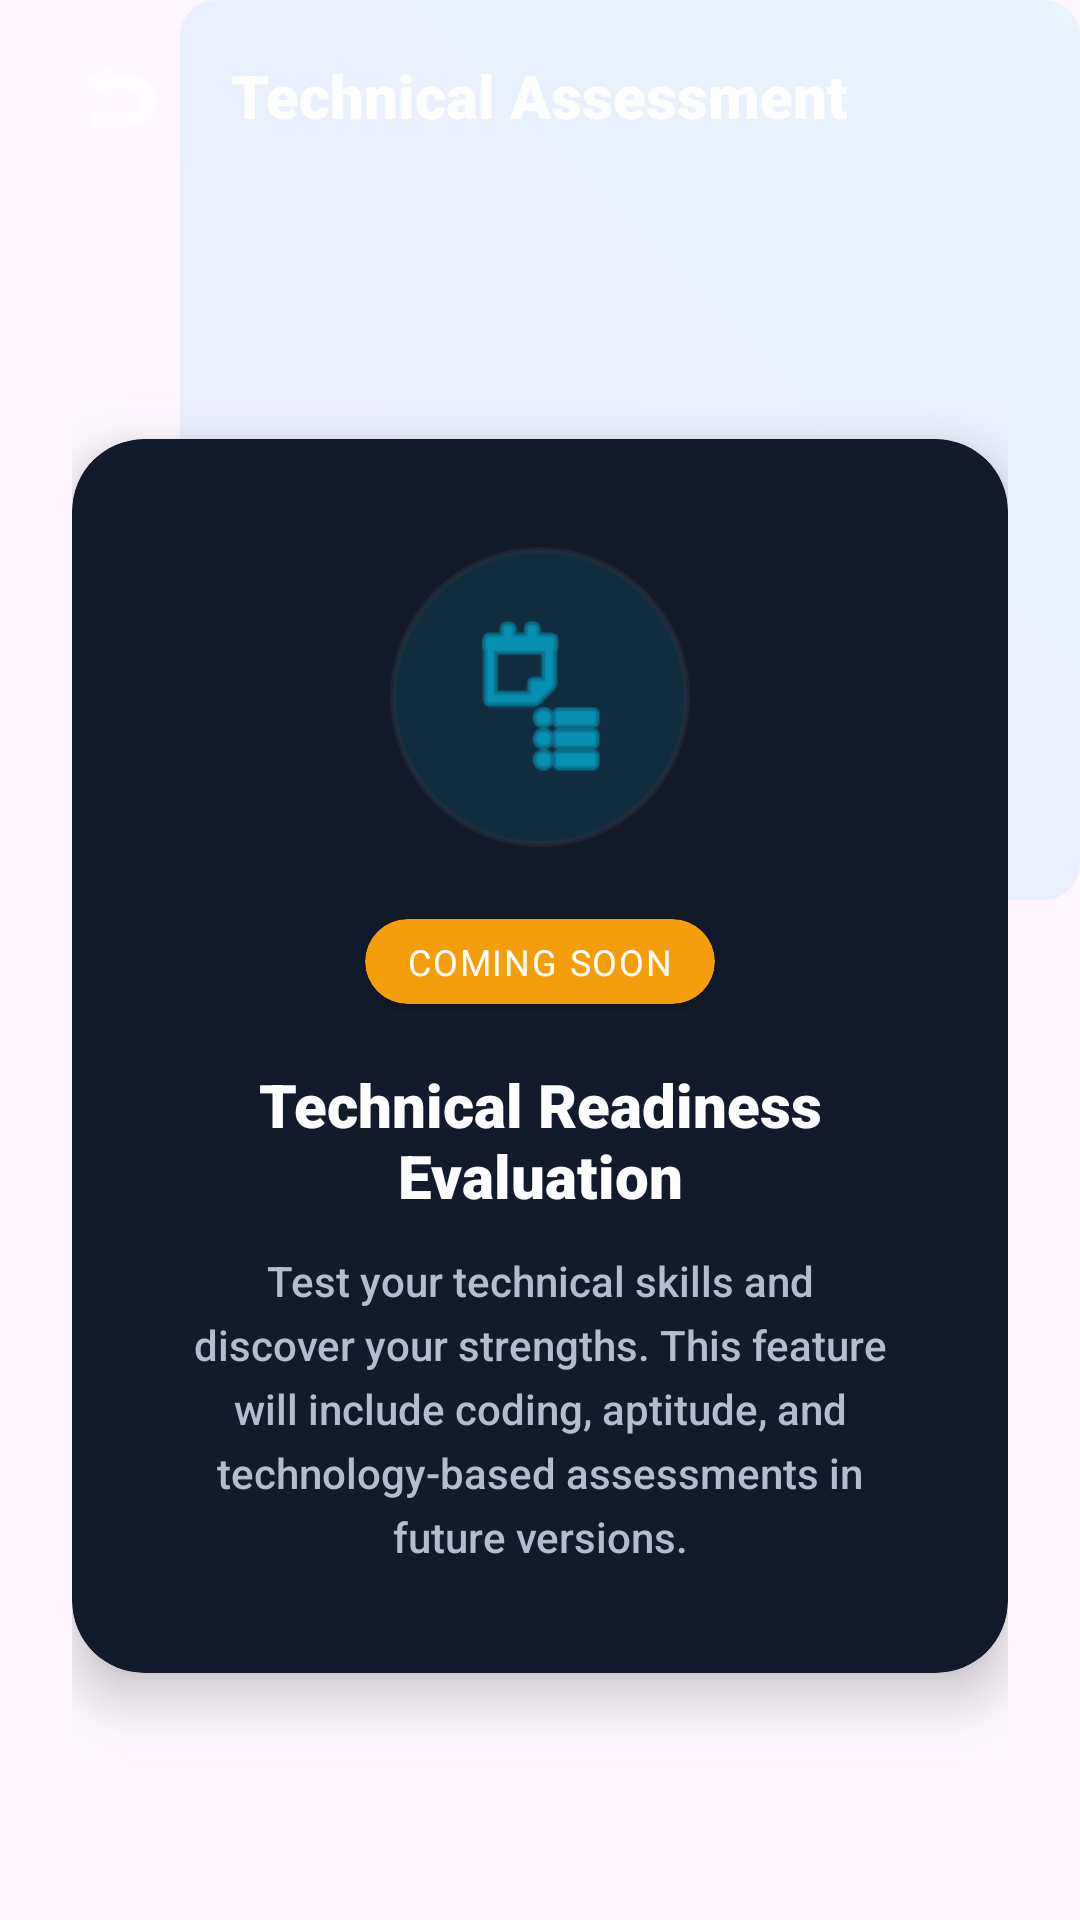

Named icons in this screenshot (1080 × 1920) and their centers, (x,y):
Agenda Icon: (541,696)
